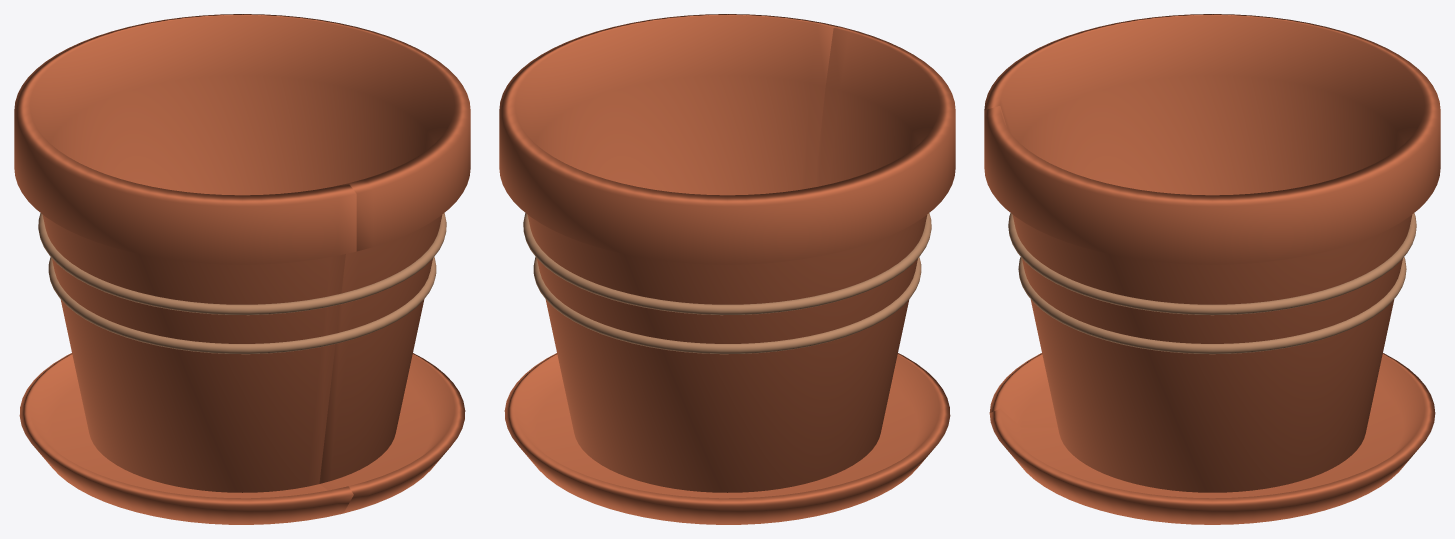
The model's file is terracotta_pot.glb.
The picture shows the model from 3 angles, left to right: view 1: azimuth 30°, elevation 25°; view 2: azimuth 150°, elevation 25°; view 3: azimuth 270°, elevation 25°; orthographic projection.
Bounding box in the file's own units: 1.72 × 1.39 × 1.72.
